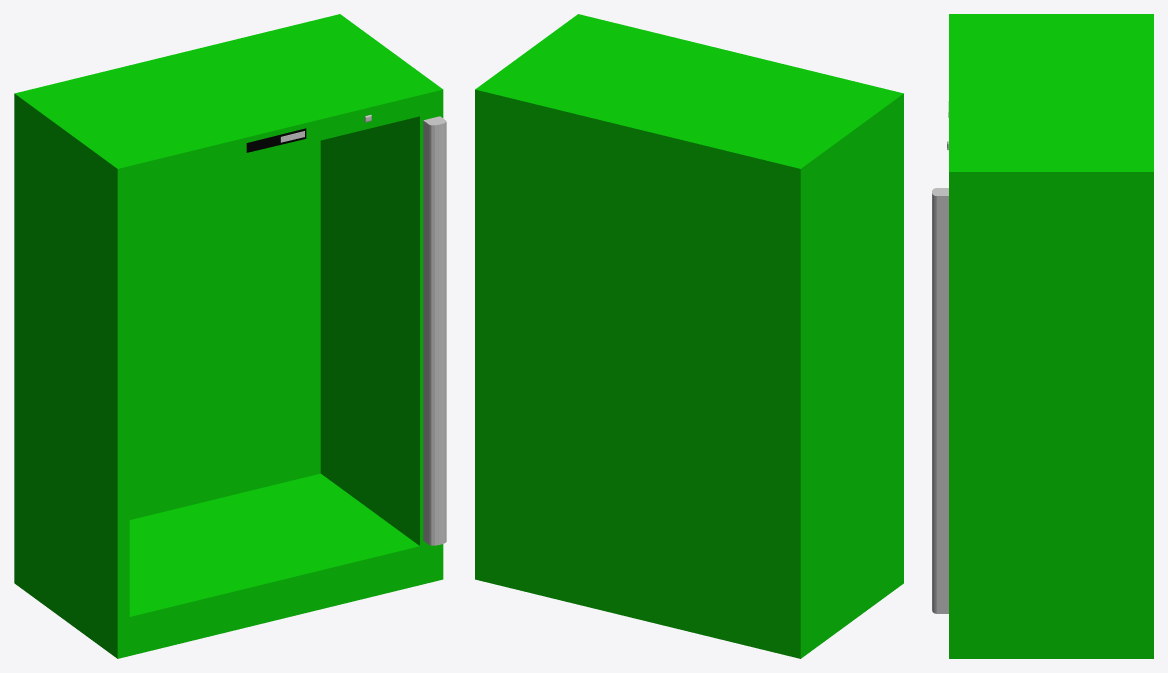
File: BlueFrame.fbx
3 renders of one model, left to right at view 1: azimuth 30°, elevation 25°; view 2: azimuth 150°, elevation 25°; view 3: azimuth 270°, elevation 25°, orthographic.
Visible parts, largest first — view 1: BlueFrame, bigLight; view 2: BlueFrame; view 3: BlueFrame, bigLight.
Boxes of the visible parts, left/top/right/bottom form: BlueFrame: left=14, top=14, right=443, bottom=658; bigLight: left=423, top=116, right=446, bottom=545; BlueFrame: left=475, top=14, right=903, bottom=658; BlueFrame: left=948, top=14, right=1153, bottom=658; bigLight: left=932, top=188, right=948, bottom=613.
Size of the model in its own units: 111 by 160 by 66.15.
